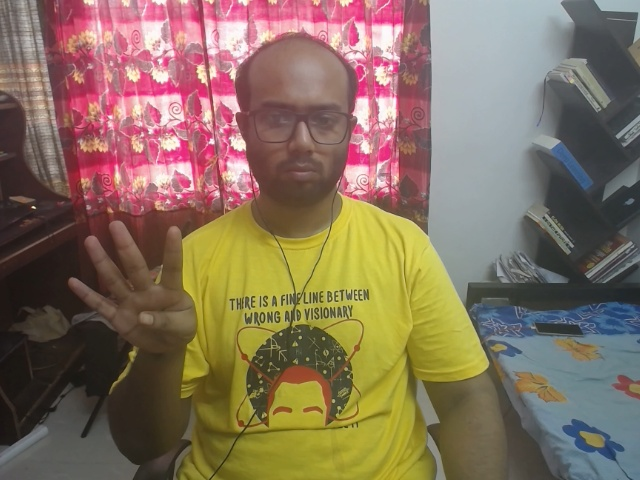four: (54, 210, 215, 357)
